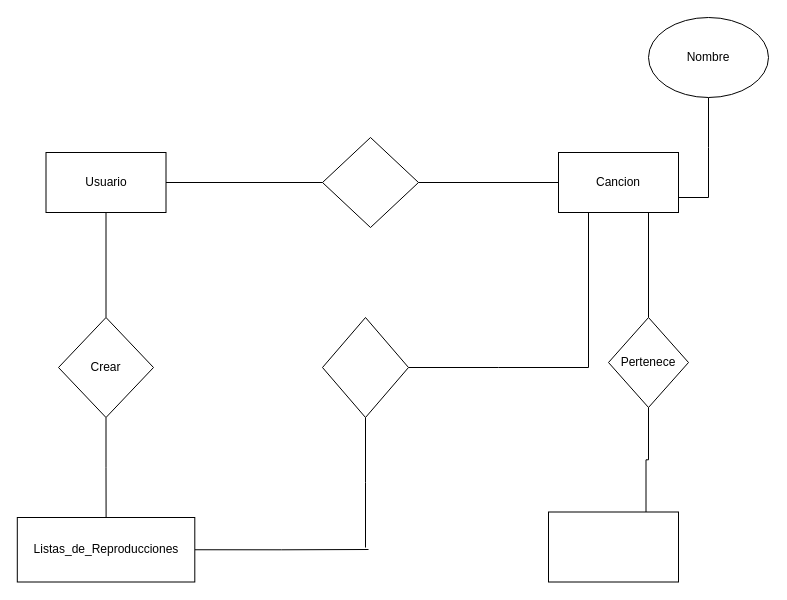
Some shapes in this 787 by 600 pixel diagram are drawn without their labels. Each missing label, with the centre of its shape:
"Contiene" belongs at (x=365, y=367).
"Genero" belongs at (x=613, y=546).
"Registrar" belongs at (x=370, y=182).
